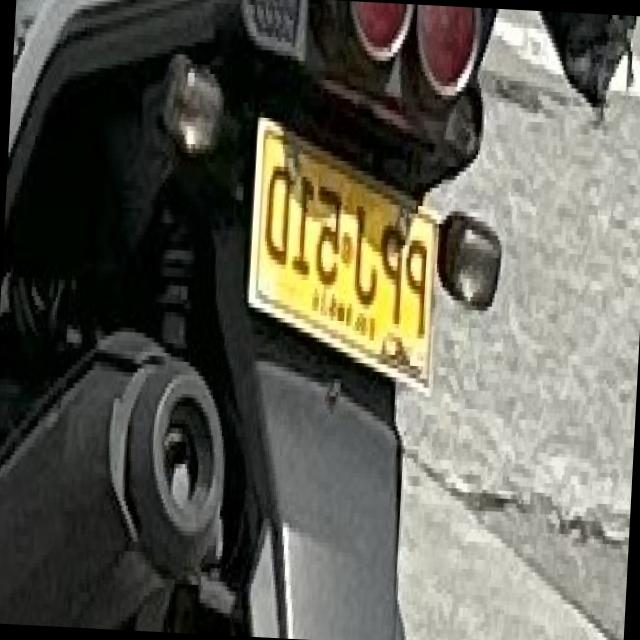number plate: (253, 113, 442, 379)
